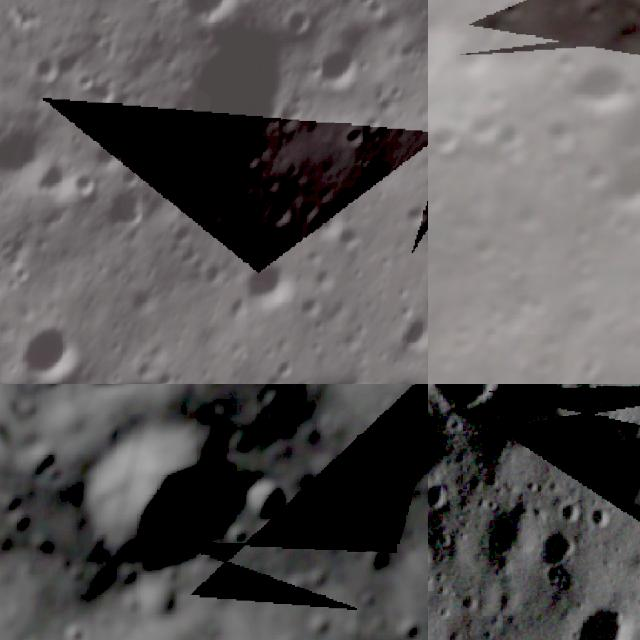crater: (58, 388, 267, 601), (566, 38, 640, 261), (561, 43, 640, 129), (229, 253, 301, 326), (236, 463, 305, 538), (31, 384, 191, 415), (14, 324, 93, 384), (314, 43, 368, 105), (428, 384, 503, 426), (447, 28, 502, 84), (171, 0, 253, 37), (566, 598, 633, 640), (486, 112, 537, 163), (534, 525, 579, 581), (428, 113, 474, 166), (19, 51, 74, 95), (402, 432, 428, 521), (572, 151, 620, 198), (534, 108, 582, 155), (70, 163, 116, 210), (508, 194, 554, 240), (462, 228, 506, 272), (544, 39, 587, 82), (258, 197, 302, 237), (490, 0, 539, 34), (396, 310, 428, 361), (465, 107, 504, 147), (478, 80, 518, 118), (607, 463, 640, 509), (281, 2, 315, 46), (428, 470, 457, 515), (576, 0, 615, 33), (74, 69, 108, 104), (303, 609, 341, 640), (574, 353, 611, 384), (428, 46, 445, 109), (393, 610, 427, 640), (341, 124, 372, 156), (586, 505, 622, 531), (344, 370, 398, 384), (564, 499, 586, 532)
